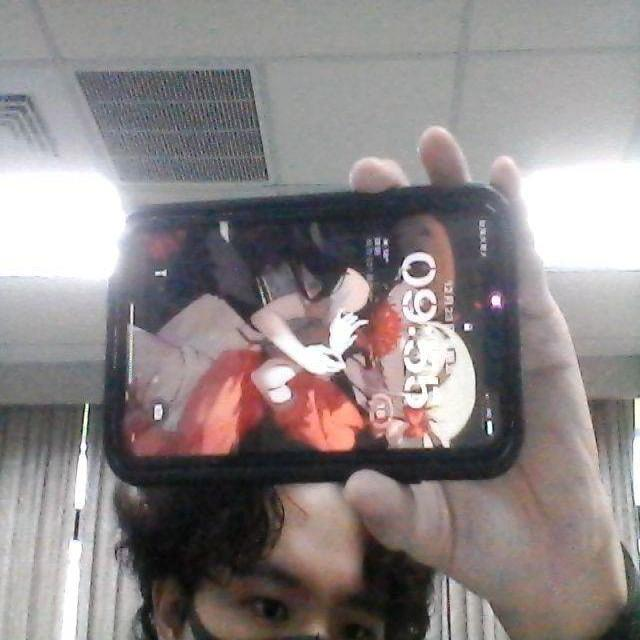mobile-phone: (106, 173, 526, 511)
